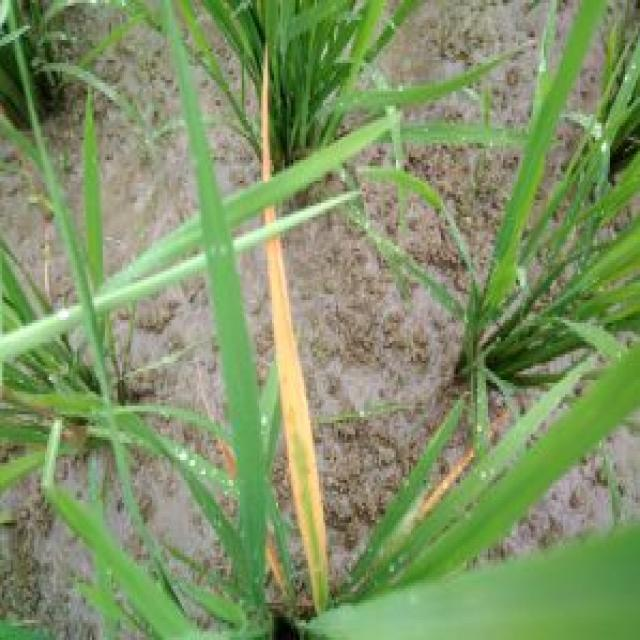Tungro: (238, 37, 338, 640)
